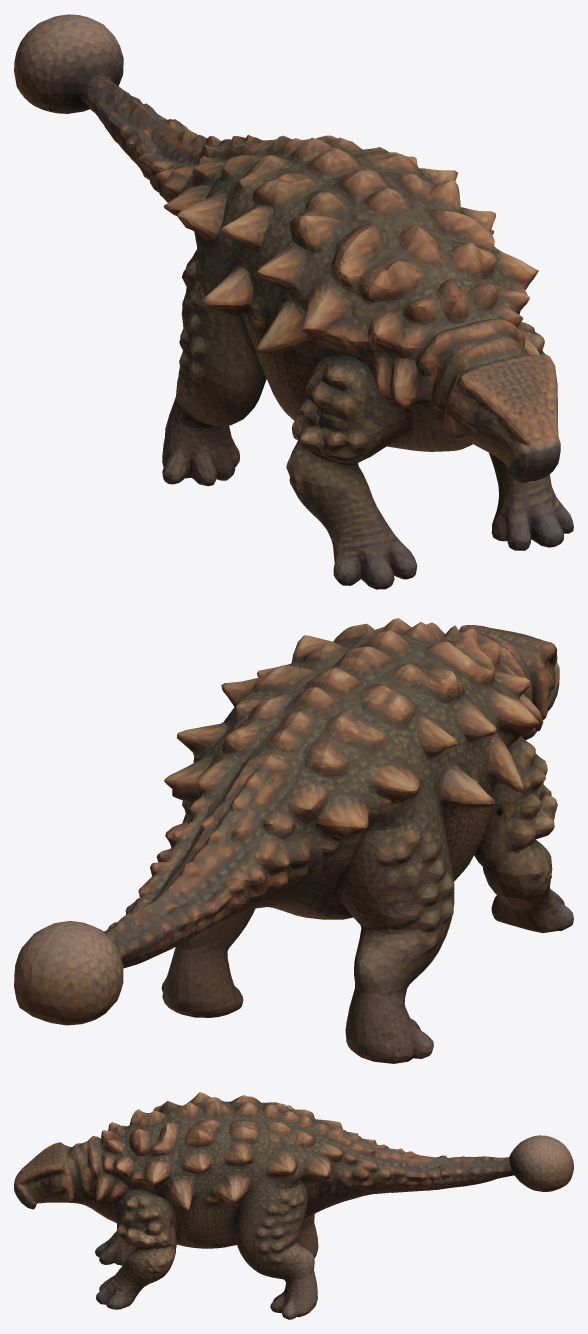
3 renders of one model, top to bottom at view 1: azimuth 30°, elevation 25°; view 2: azimuth 150°, elevation 25°; view 3: azimuth 270°, elevation 25°, orthographic. The views are drawn at different scales.
Visible parts, largest first — view 1: world; view 2: world; view 3: world.
Part boxes in pixels (<box>): world: <box>14,14,573,589</box>; world: <box>14,618,573,1063</box>; world: <box>14,1092,573,1319</box>.
Bounding box in the file's own units: 0.334 × 0.3632 × 0.9992.
Materials: 1 (1 with a texture image).
